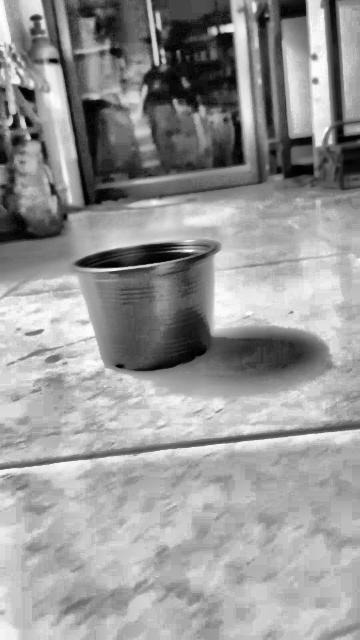pot: (70, 242, 219, 371)
